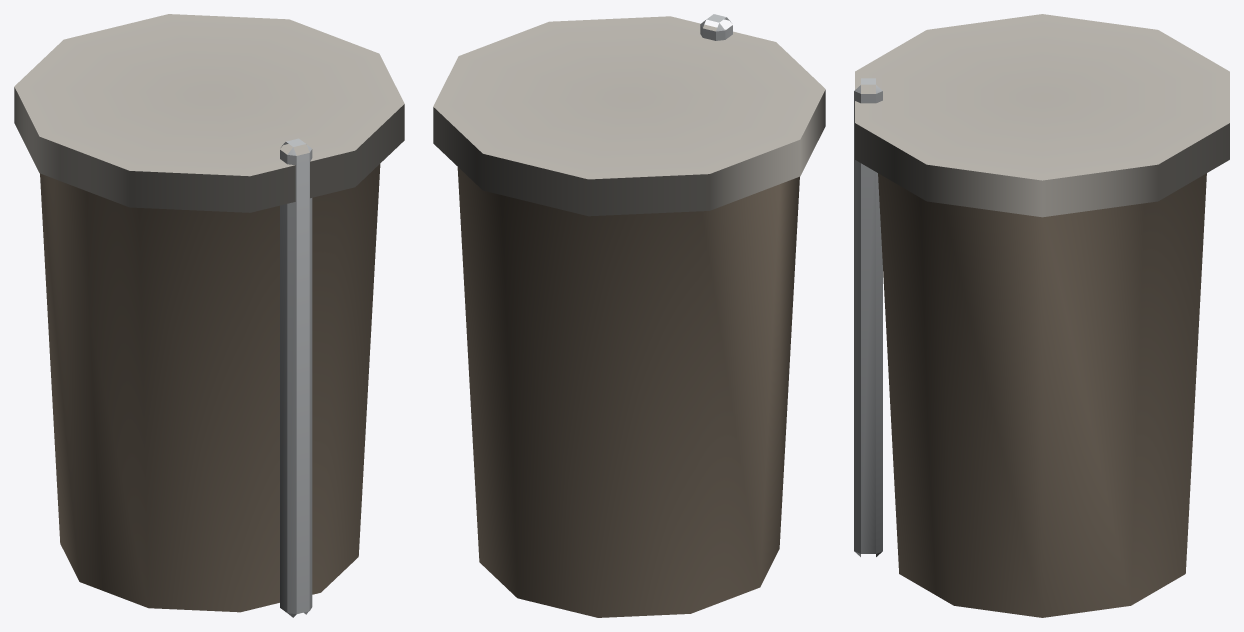
The model's file is litter_bin_park.glb.
The picture shows the model from 3 angles, left to right: view 1: azimuth 30°, elevation 25°; view 2: azimuth 150°, elevation 25°; view 3: azimuth 270°, elevation 25°; orthographic projection.
Parts seen in each view (by area): view 1: props_litter_bin_park; view 2: props_litter_bin_park; view 3: props_litter_bin_park.
Part boxes in pixels (x1=…): props_litter_bin_park: x1=14, y1=14, x2=404, y2=617; props_litter_bin_park: x1=433, y1=14, x2=825, y2=617; props_litter_bin_park: x1=854, y1=14, x2=1229, y2=617.
Size of the model in its own units: 0.68 by 0.9 by 0.6484.
